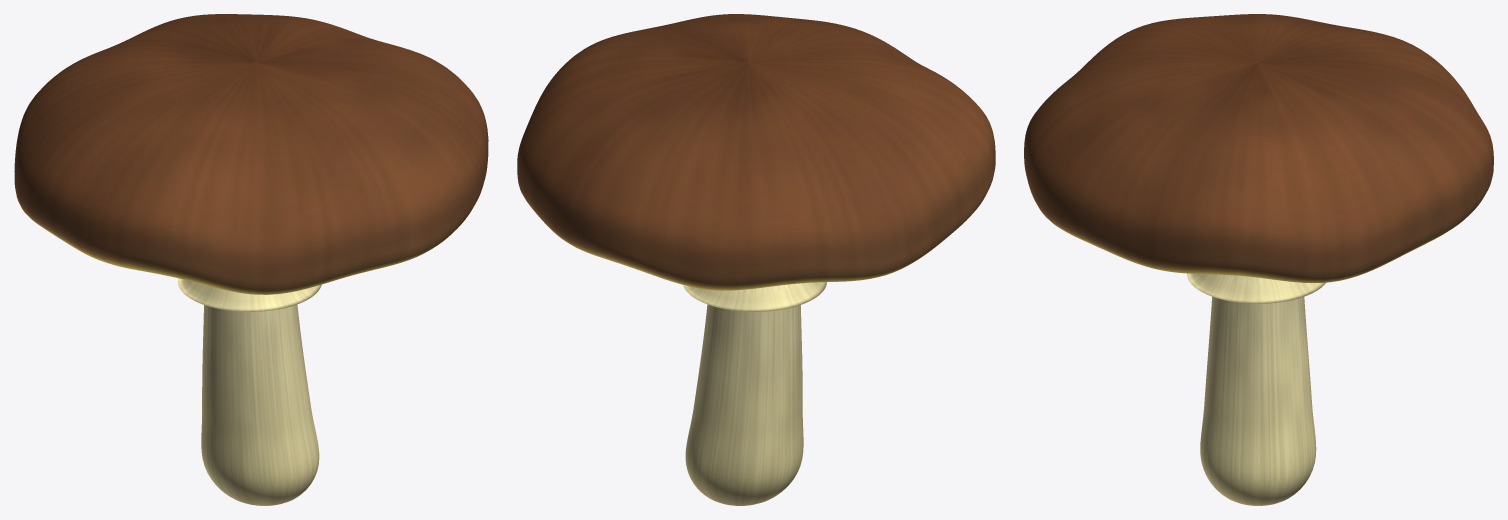
The model's file is suillus-luteus-drawn.glb.
The picture shows the model from 3 angles, left to right: view 1: azimuth 30°, elevation 25°; view 2: azimuth 150°, elevation 25°; view 3: azimuth 270°, elevation 25°; orthographic projection.
Size of the model in its own units: 0.786 by 0.7904 by 0.7851.
1 material, 1 textured.
